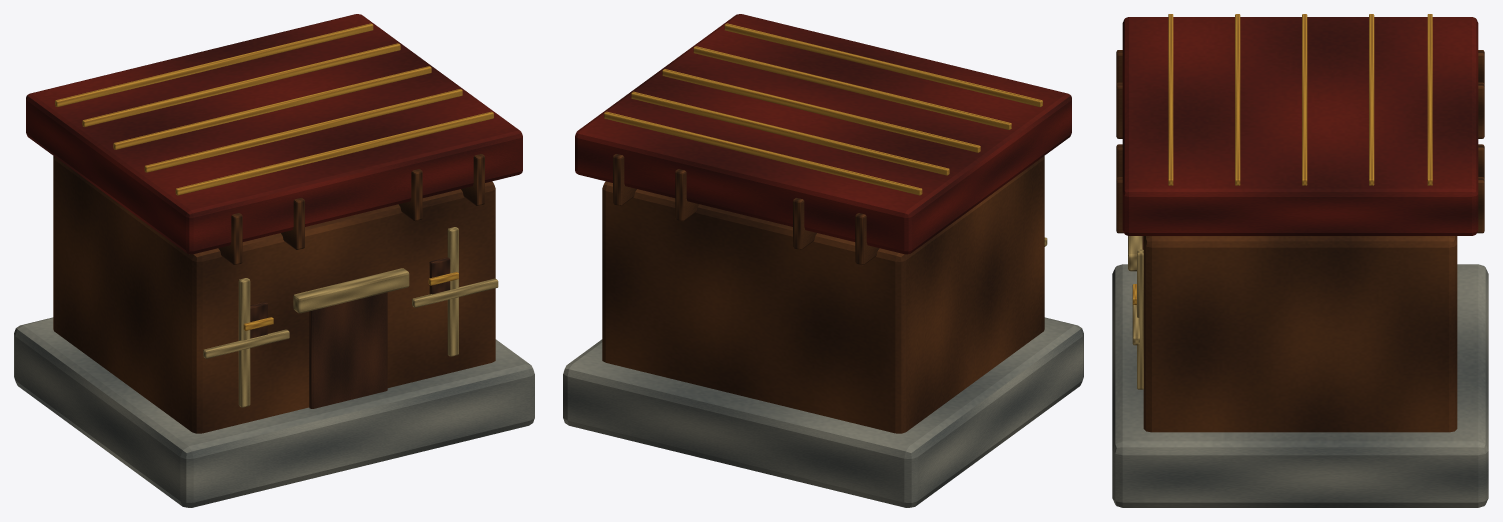
File: barracks_generated.glb
The picture shows the model from 3 angles, left to right: view 1: azimuth 30°, elevation 25°; view 2: azimuth 150°, elevation 25°; view 3: azimuth 270°, elevation 25°; orthographic projection. The views are drawn at different scales.
Parts seen in each view (by area): view 1: Barracks_Mesh; view 2: Barracks_Mesh; view 3: Barracks_Mesh.
Boxes of the visible parts, <box> form: Barracks_Mesh: <box>14,14,534,507</box>; Barracks_Mesh: <box>563,14,1083,507</box>; Barracks_Mesh: <box>1112,14,1488,507</box>.
Bounding box in the file's own units: 2.1 × 1.7 × 1.8.
6 materials, 6 textured.
